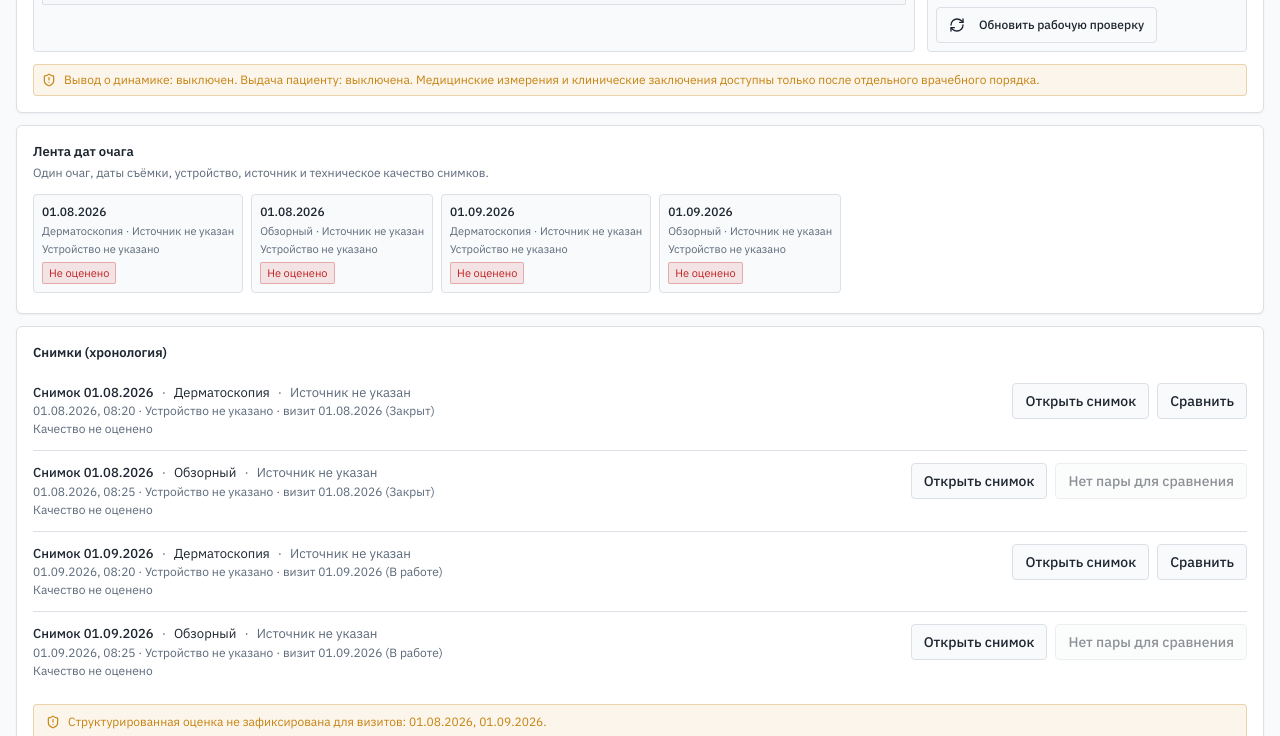
Test case: LesionDetailPage › loads a real UUID lesion route from the clinic system and exposes its comparable pair
(page scrolled)
Expected: the 2nd list item is shown, [33,370,1247,450]
Expected: the 4th list item is shown, [33,530,1247,611]
Click the button "Сравнить" in the row of "01.08.2026, 08:20" at (1202, 400), box [1157,382,1247,418]
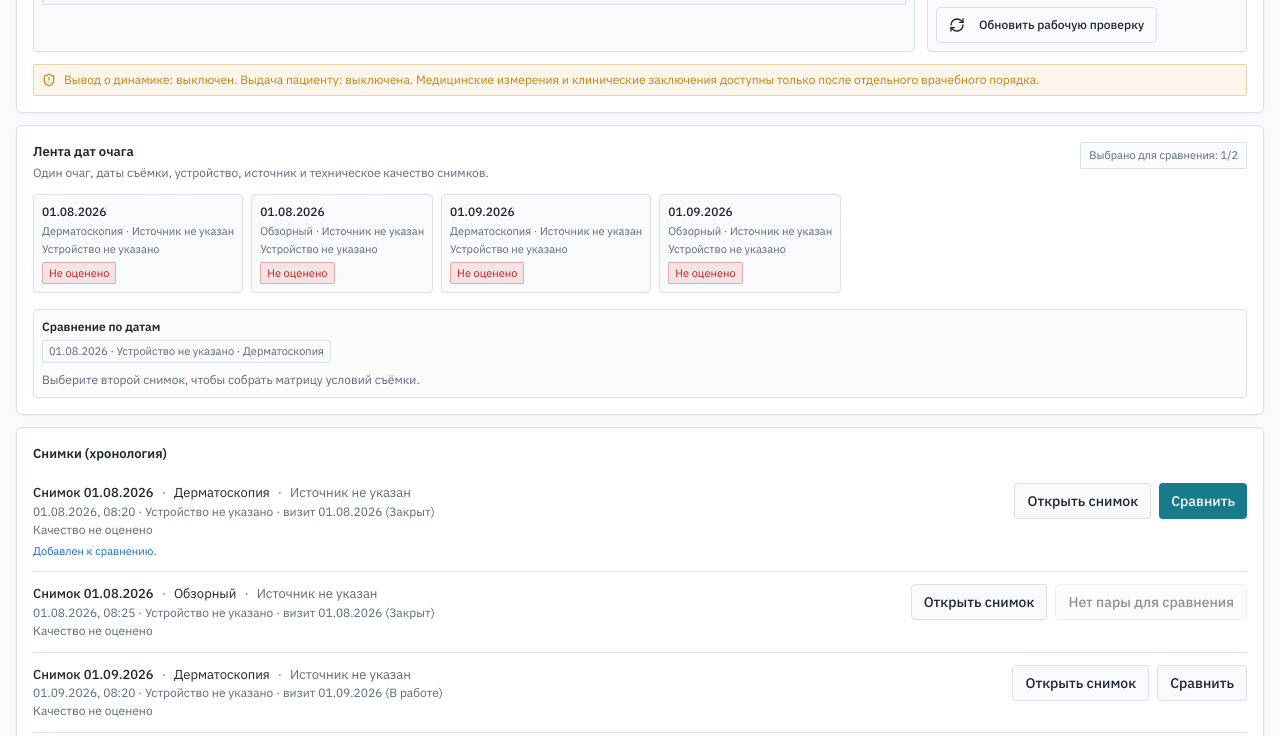
Click the button "Сравнить" in the row of "01.09.2026, 08:20" at (1202, 682), box [1157,664,1247,700]
(page scrolled)
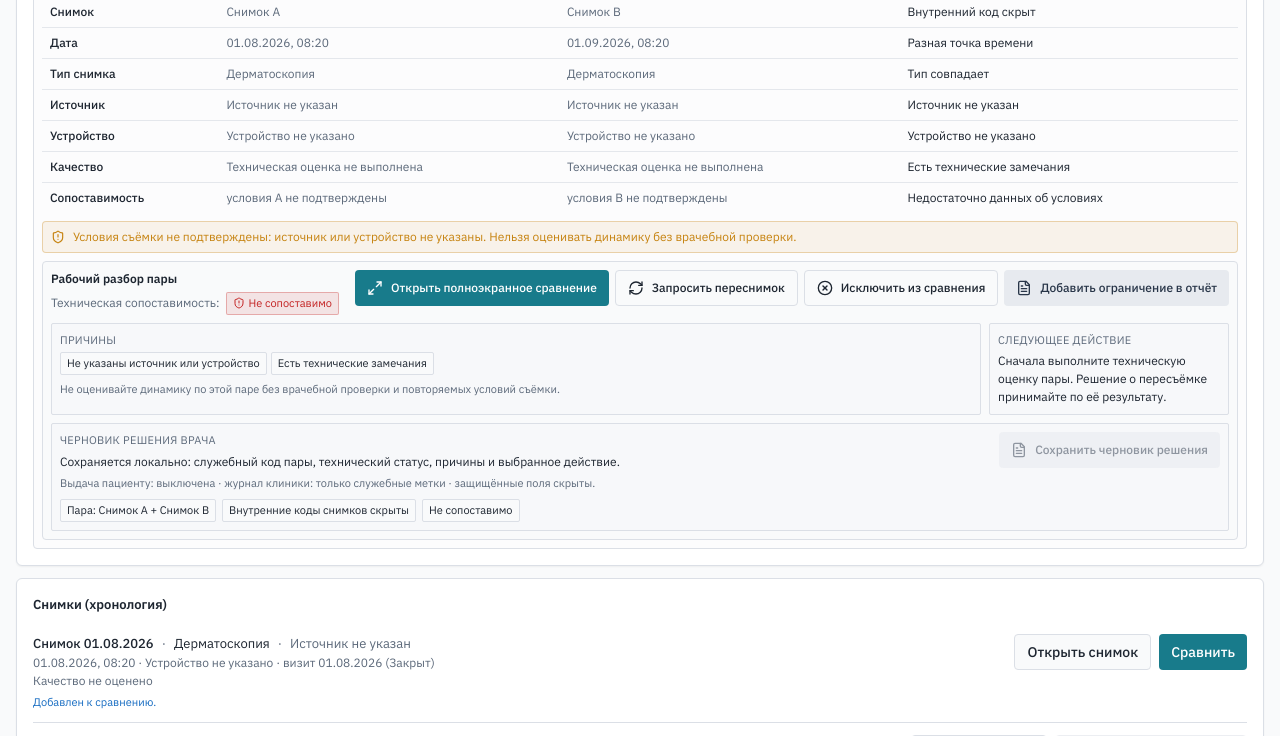
Expected: the text "Источник не указан" is shown, [218,90,559,120]
Expected: the element "Рабочий разбор пары" shows "Сначала выполните техническую оценку пары", [998,353,1207,404]
